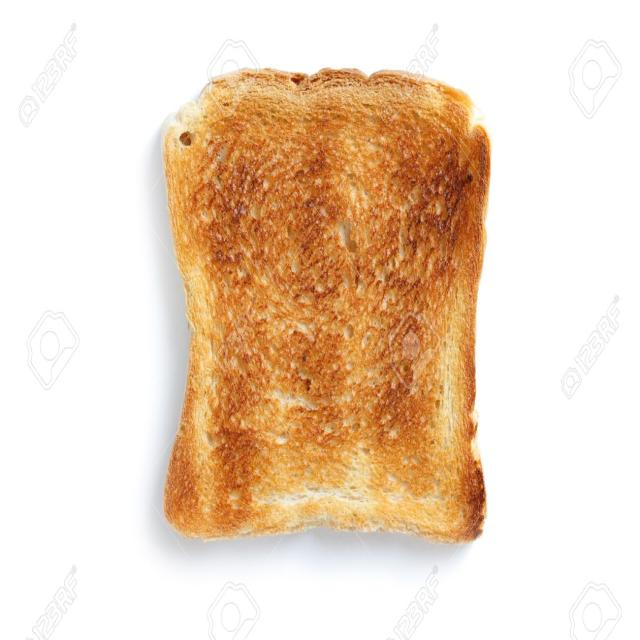Bread: (162, 69, 490, 541)
